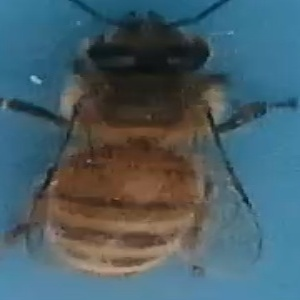bee: (3, 4, 292, 281)
